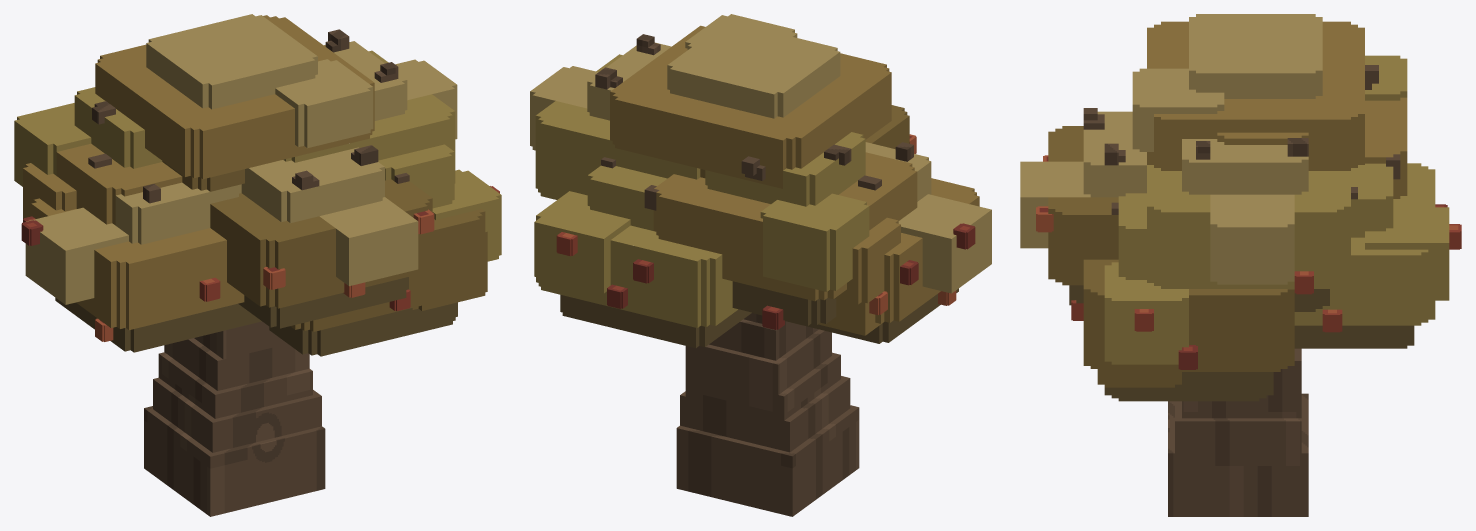
File: apple_ancient_autumn_fruiting_2.glb
3 views of the same model, side by side, from view 1: azimuth 30°, elevation 25°; view 2: azimuth 150°, elevation 25°; view 3: azimuth 270°, elevation 25° (orthographic). The views are drawn at different scales.
Visible parts, largest first — view 1: VoxelVisual; view 2: VoxelVisual; view 3: VoxelVisual.
Part boxes in pixels (x1,y1,x2,y2): VoxelVisual: [14, 14, 501, 516]; VoxelVisual: [530, 14, 991, 516]; VoxelVisual: [1020, 14, 1461, 516].
Size of what is drawn, in the model's own units: 18.38 by 17.5 by 15.69.
